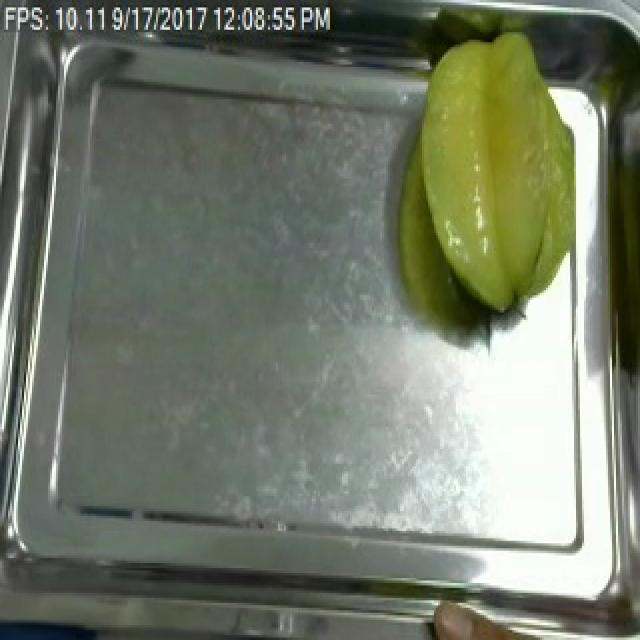fruit: (404, 22, 588, 325)
